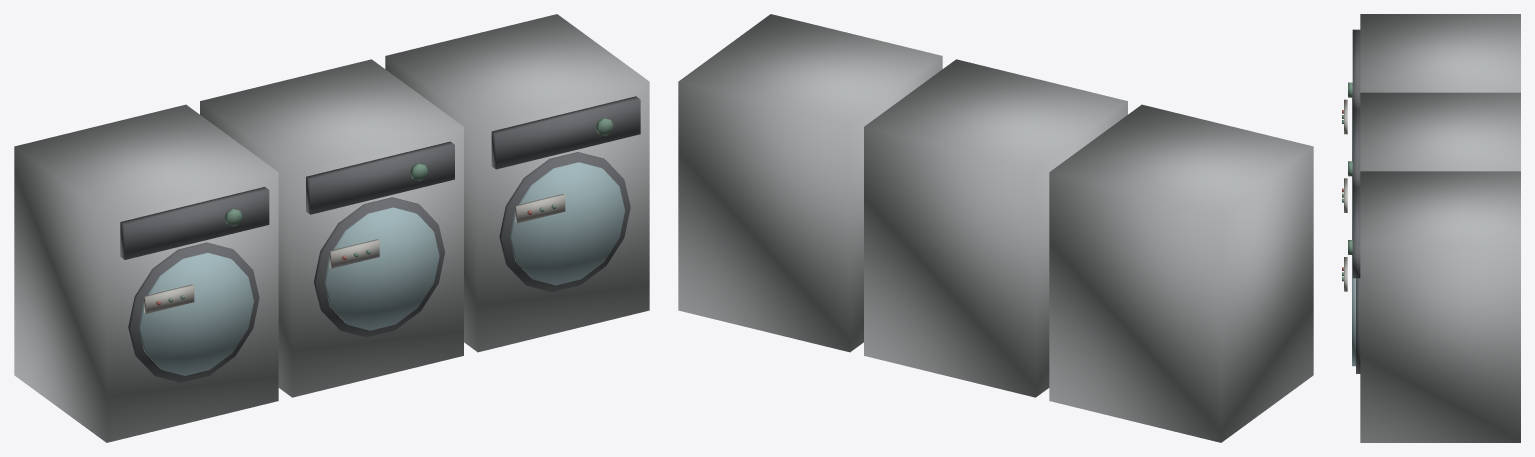
File: industrial_washer__cluster.glb
3 renders of one model, left to right at view 1: azimuth 30°, elevation 25°; view 2: azimuth 150°, elevation 25°; view 3: azimuth 270°, elevation 25°, orthographic. The views are drawn at different scales.
Parts seen in each view (by area): view 1: world; view 2: world; view 3: world.
Part boxes in pixels (box(x1,y1,x2,y2)): world: box(14, 14, 649, 442); world: box(678, 14, 1313, 442); world: box(1342, 14, 1520, 442).
Size of the model in its own units: 2.78 by 1.12 by 0.9135.
